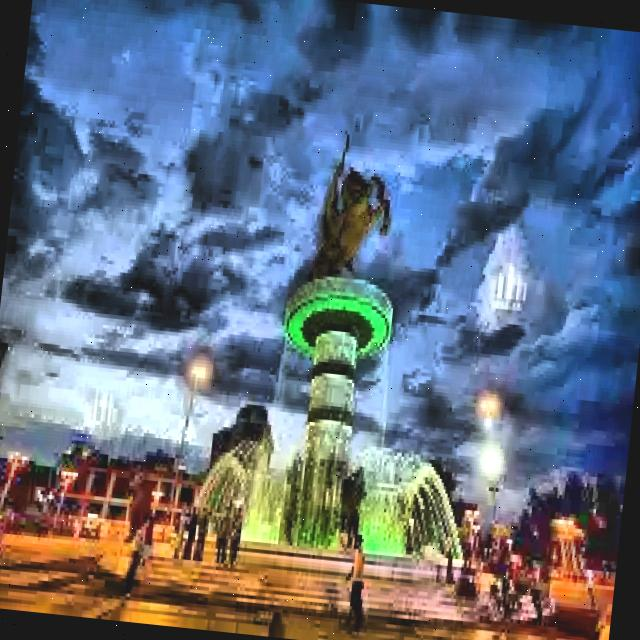alexander the great monument: (257, 124, 414, 542)
